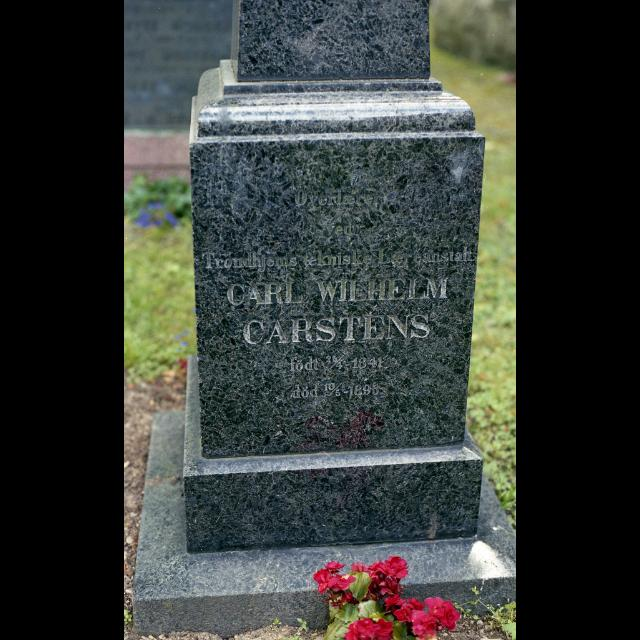Flower: (424, 594, 462, 628), (378, 555, 412, 579), (411, 610, 435, 638), (396, 597, 420, 621), (312, 568, 333, 594), (381, 574, 404, 596), (371, 618, 393, 640), (332, 573, 354, 591), (382, 592, 406, 608), (350, 560, 370, 574), (370, 560, 382, 582), (346, 623, 362, 639), (324, 560, 344, 570), (352, 618, 372, 628)
